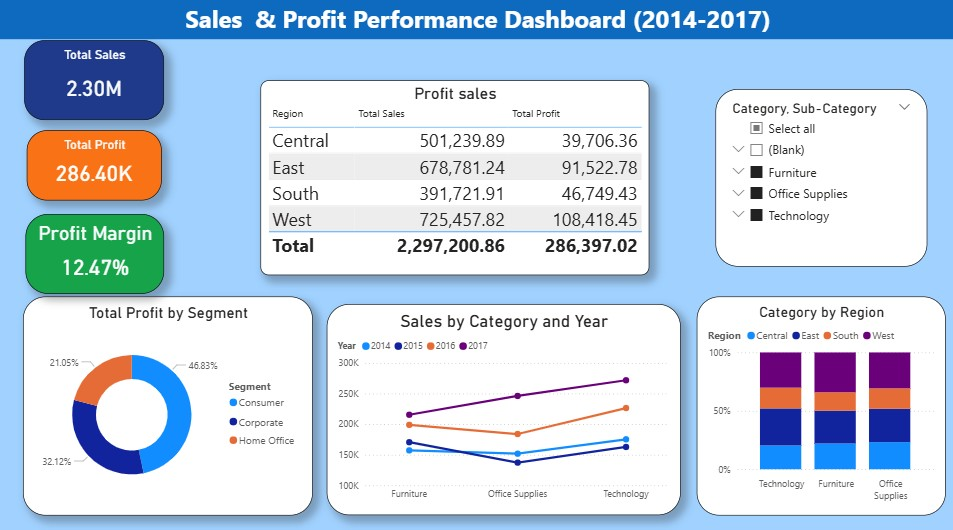

The page's visual inventory and layout, read from the dashboard file:
{"tool":"powerbi","page":{"name":"Page 1","canvas":[1280,720],"ordinal":0},"visuals":[{"type":"tableEx","title":"Profit sales","fields":{"Values":["Orders.Region","Sum(Orders.Sales)","Sum(Orders.Profit)"]},"box":[350,108.3,518.3,260],"z":0},{"type":"donutChart","title":"Total Profit by Segment","fields":{"Category":["Orders.Segment"],"Y":["Sum(Orders.Profit)"]},"box":[33.3,396.7,386.7,291.7],"z":1000},{"type":"slicer","fields":{"Values":["Orders.Category","Orders.Sub-Category"]},"box":[958.3,103.3,281.7,236.7],"z":2000},{"type":"card","title":"Total Sales","fields":{"Values":["Sum(Orders.Sales)"]},"box":[35,55,186.7,106.7],"z":3000},{"type":"card","title":"Total Profit","fields":{"Values":["Sum(Orders.Profit)"]},"box":[38.3,175,180,93.3],"z":4000},{"type":"lineChart","title":"Sales by Category and Year","fields":{"Category":["Orders.Category"],"Y":["Sum(Orders.Sales)"],"Series":["Orders.Order Date.Variation.Date Hierarchy.Year"]},"box":[438.3,406.7,471.7,281.7],"z":5000},{"type":"hundredPercentStackedColumnChart","title":" Category by Region","fields":{"Category":["Orders.Category"],"Series":["Orders.Region"],"Y":["Sum(Orders.Sales)"]},"box":[931.7,396.7,331.7,291.7],"z":6000},{"type":"card","title":"Profit Margin","fields":{"Values":["Avg(Orders.Profit Margin)"]},"box":[36.7,286.7,185,106.7],"z":7000},{"type":"textbox","box":[0,0,1280,53.3],"z":8000}]}

Visuals, with their boxes in screenshot pixels (x1, y1, x2, y2), scaled from the page's 1280x720 canvas onto the 953x530 screenshot:
"Profit sales" tableEx: [x1=261, y1=80, x2=646, y2=271]
"Total Profit by Segment" donutChart: [x1=25, y1=292, x2=313, y2=507]
slicer - Orders.Category x Orders.Sub-Category: [x1=713, y1=76, x2=923, y2=250]
"Total Sales" card: [x1=26, y1=40, x2=165, y2=119]
"Total Profit" card: [x1=29, y1=129, x2=163, y2=197]
"Sales by Category and Year" lineChart: [x1=326, y1=299, x2=678, y2=507]
" Category by Region" hundredPercentStackedColumnChart: [x1=694, y1=292, x2=941, y2=507]
"Profit Margin" card: [x1=27, y1=211, x2=165, y2=290]
textbox: [x1=0, y1=0, x2=952, y2=39]
